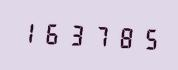eight: (110, 21, 132, 52)
five: (133, 22, 155, 53)
one: (17, 16, 39, 47)
seven: (87, 19, 109, 51)
six: (40, 17, 62, 48)
three: (64, 18, 86, 49)
